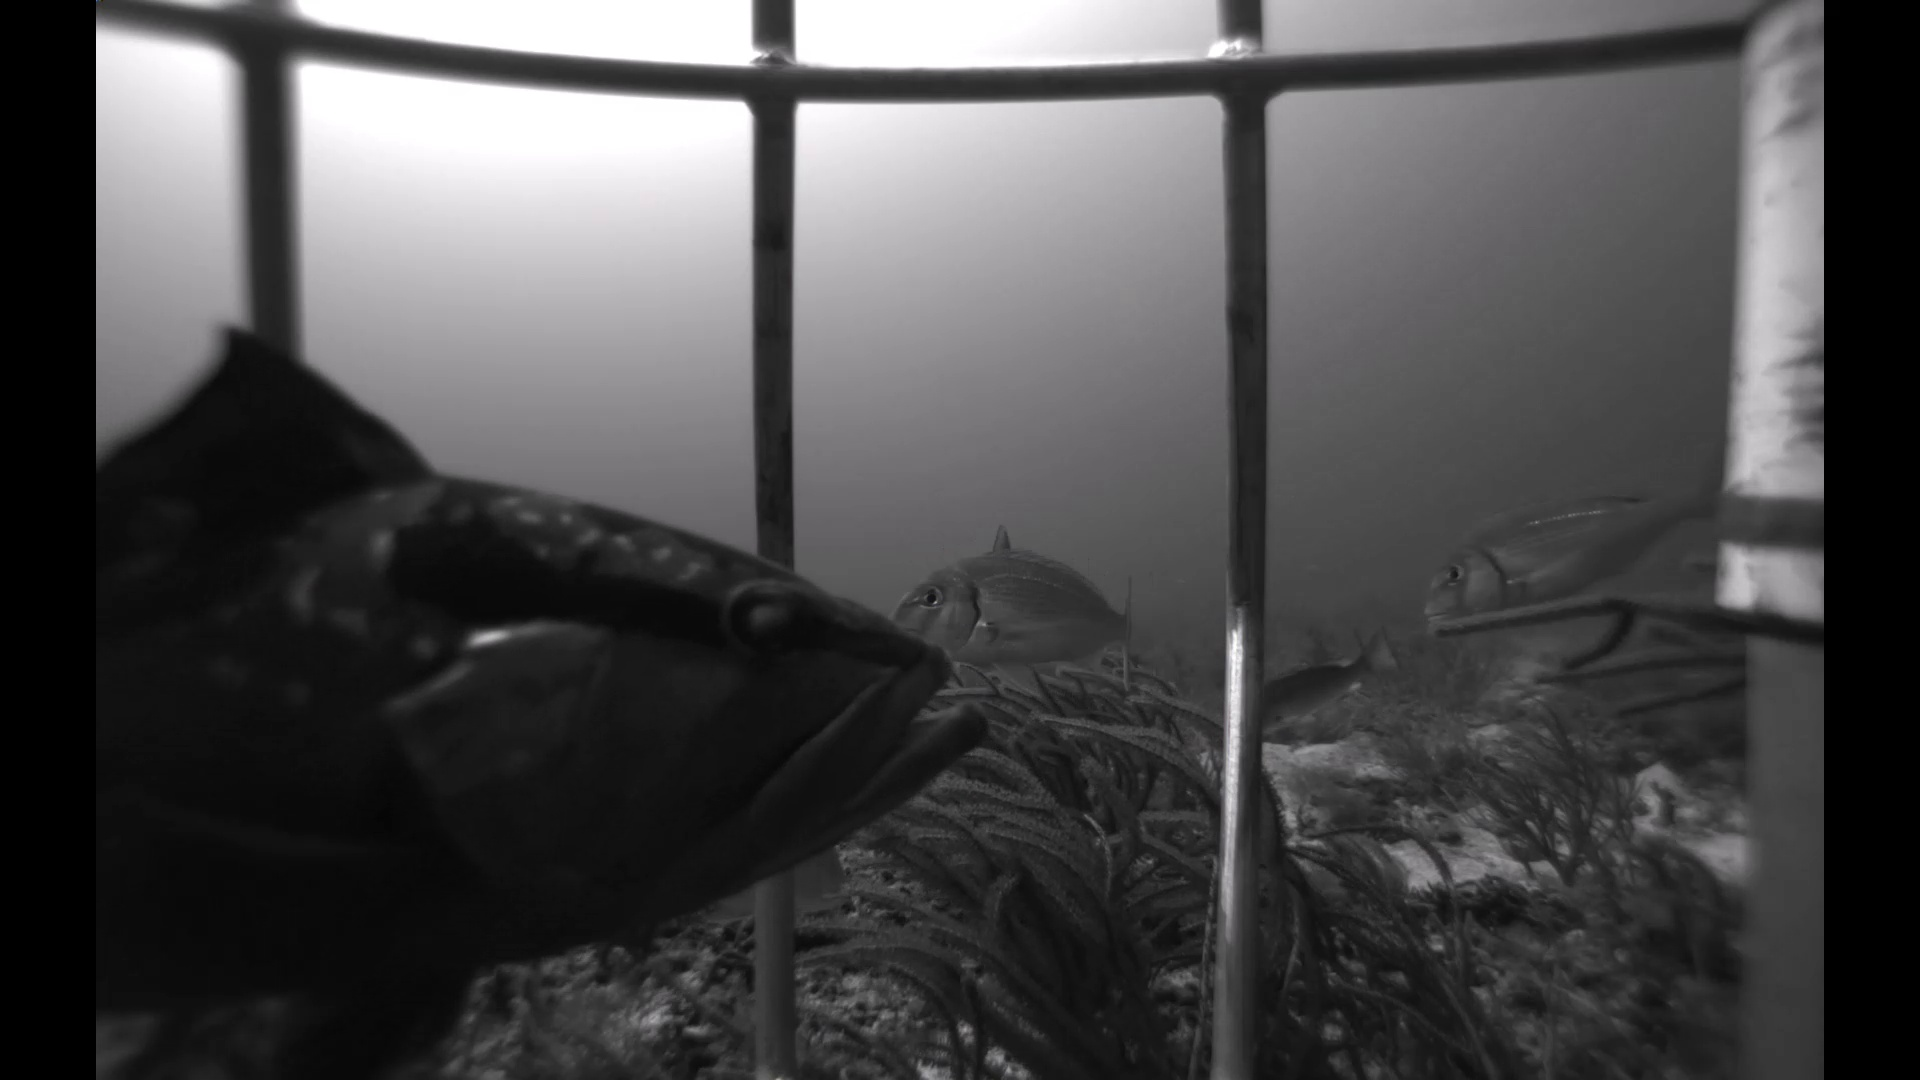CALAMUSNODOSUS-170210608: (700, 832, 858, 934)
EPINEPHELUSMORIO-170021211: (102, 313, 1011, 1065)
LUTJANUSGRISEUS-170151109: (1257, 624, 1400, 741), (986, 513, 1021, 553)
PAGRUSPAGRUS-170212302: (1390, 434, 1734, 659), (886, 522, 1147, 688)
